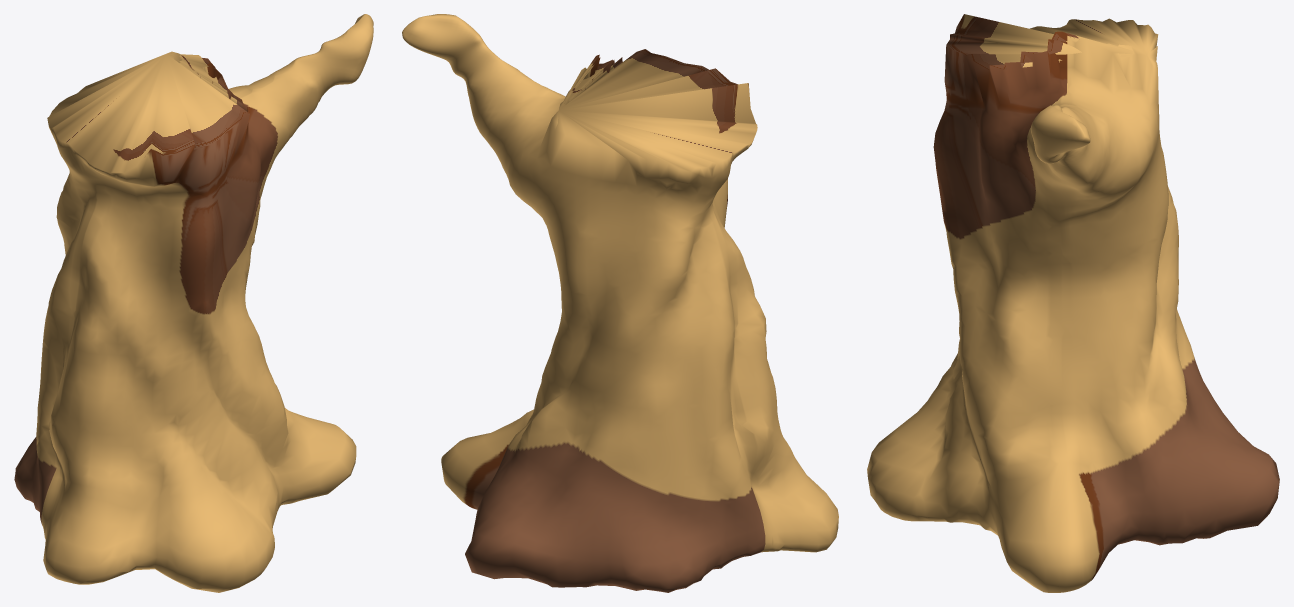
Rendered from broken tree.fbx.
The picture shows the model from 3 angles, left to right: view 1: azimuth 30°, elevation 25°; view 2: azimuth 150°, elevation 25°; view 3: azimuth 270°, elevation 25°; orthographic projection. The views are drawn at different scales.
Parts seen in each view (by area): view 1: Cylinder; view 2: Cylinder; view 3: Cylinder.
Part boxes in pixels (x1=…): Cylinder: x1=14, y1=14, x2=373, y2=592; Cylinder: x1=402, y1=14, x2=838, y2=592; Cylinder: x1=867, y1=14, x2=1279, y2=592.
Bounding box in the file's own units: 359 × 431 × 317.
